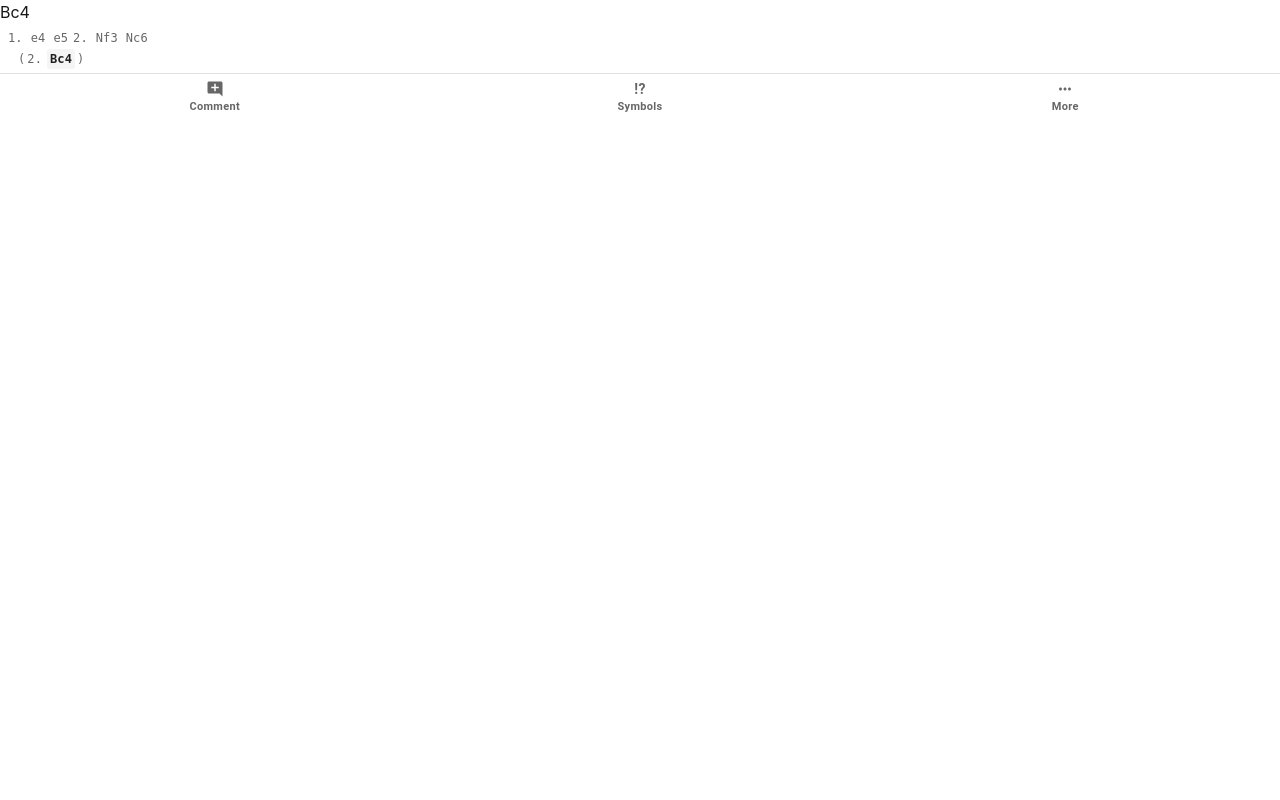
Scenario: Mobile action sheet › variation moves get the variation actions
Click the text "Bc4" below "1.": (61, 59) [47,49,75,69]
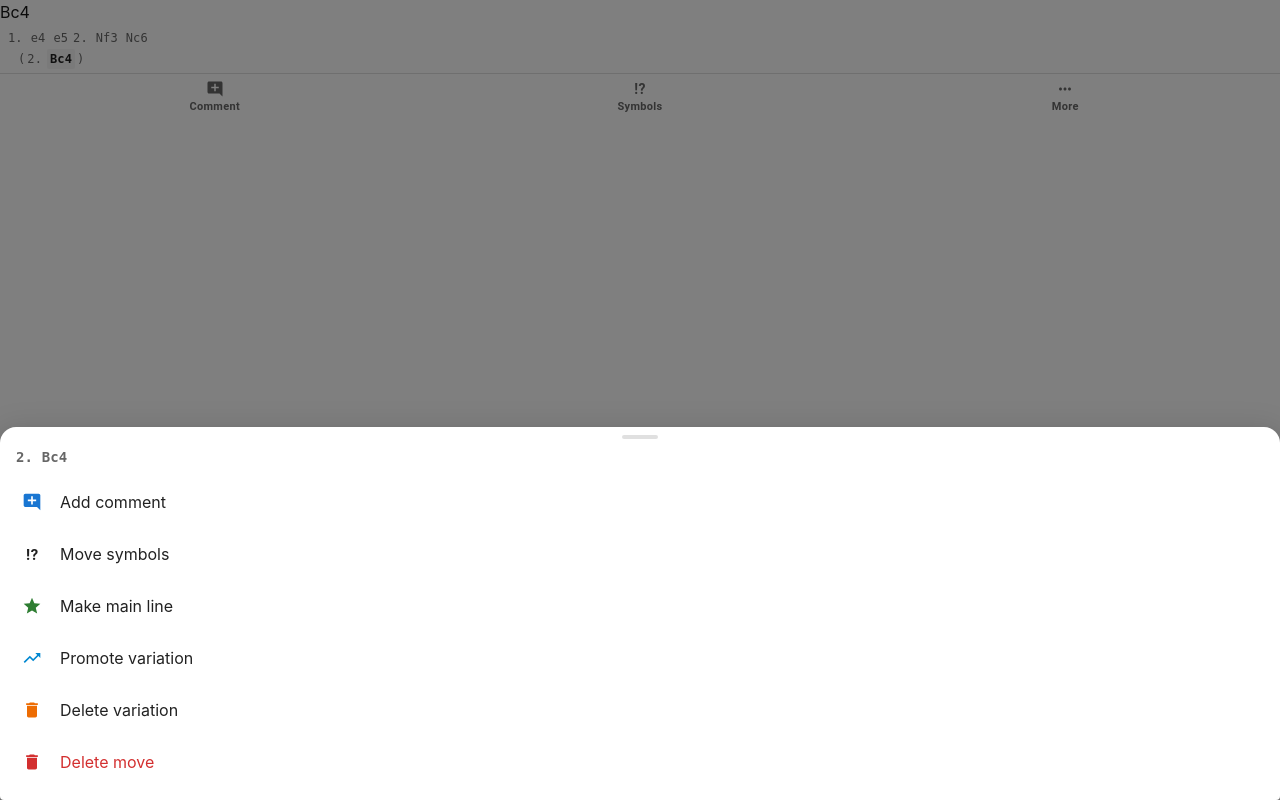
Check: the menu items read "Add comment", "!?Move symbols", "Make main line", "Promote variation", "Delete variation", "Delete move", in this order, box [8,476,1272,528]; [8,528,1272,580]; [8,580,1272,632]; [8,632,1272,684]; [8,684,1272,736]; [8,736,1272,788]
